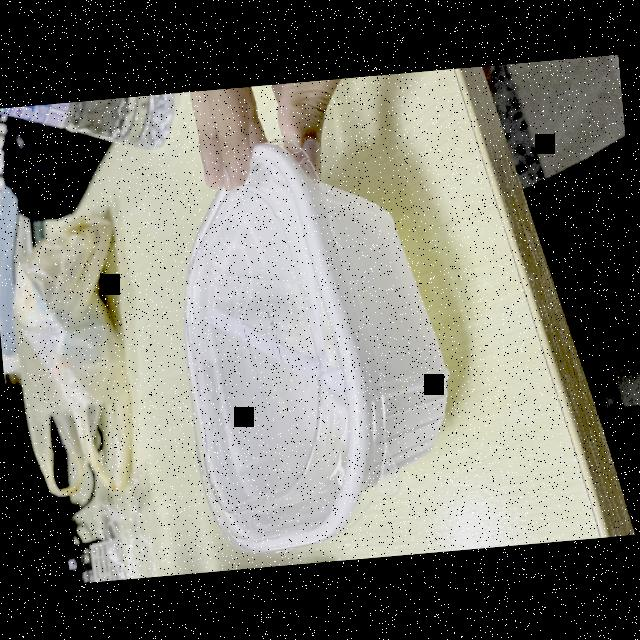plastic_box: (159, 121, 479, 559)
